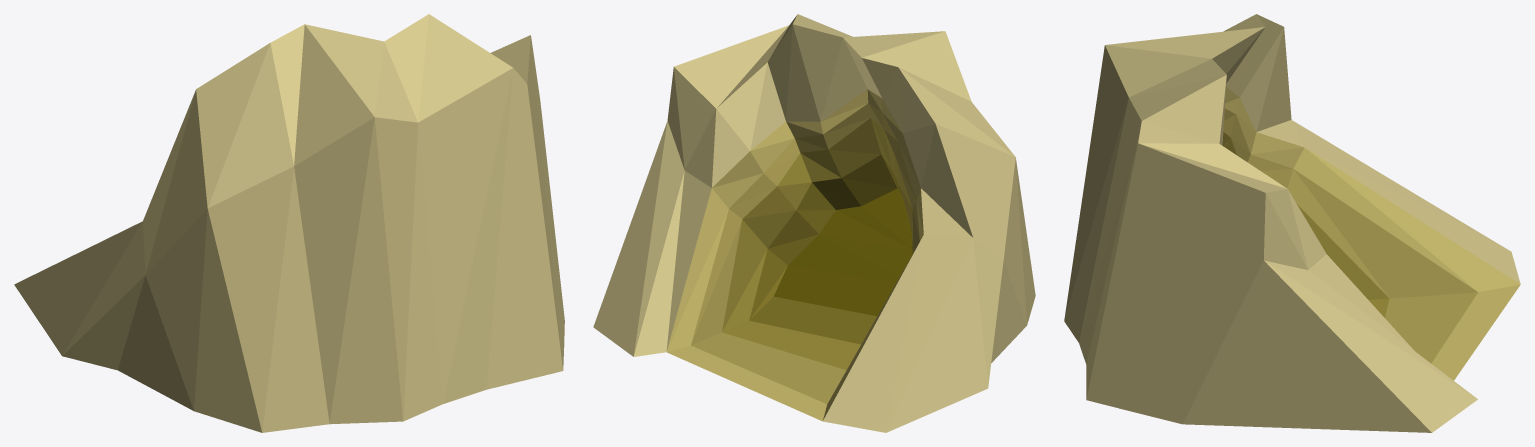
Rendered from obj_rock_opening_0.obj.
3 renders of one model, left to right at view 1: azimuth 30°, elevation 25°; view 2: azimuth 150°, elevation 25°; view 3: azimuth 270°, elevation 25°, orthographic. The views are drawn at different scales.
Size of the model in its own units: 1.98 by 1.39 by 1.93.
